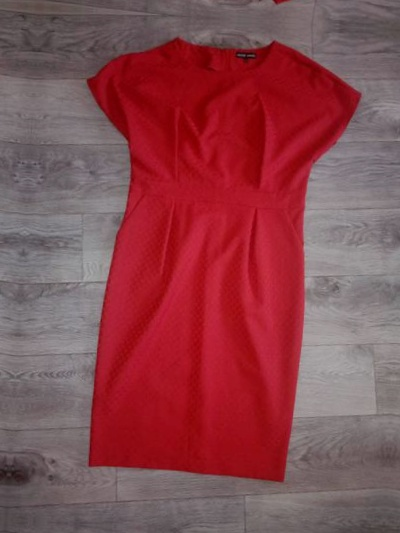Dress: (41, 23, 373, 497), (73, 0, 400, 14), (0, 0, 5, 473)
